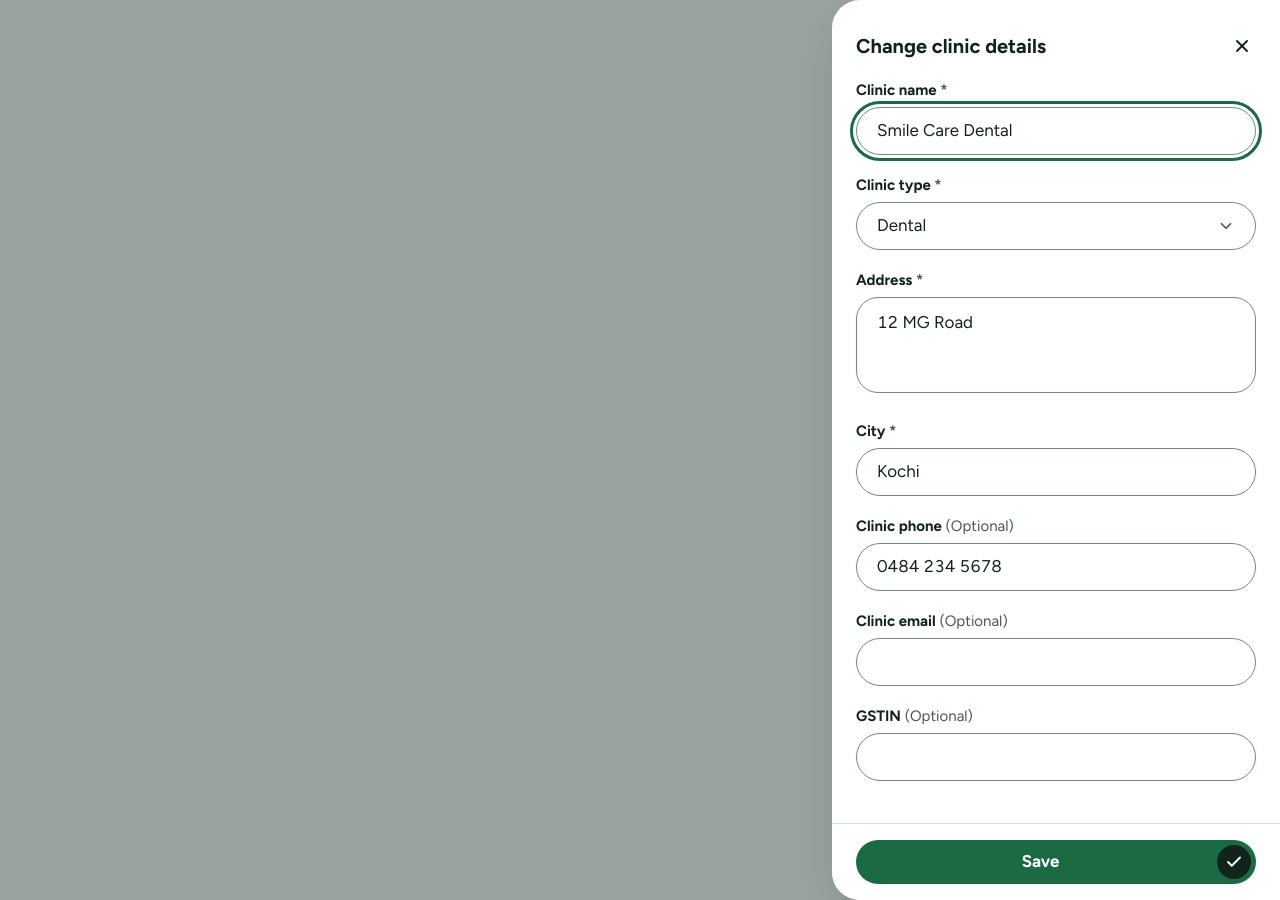
Test: ClinicDetailsSheet (plan §9, D78) › says beside a field what is wrong with it, and sends nothing
In the field labelled "GSTIN (Optional)": [1056, 756] box [856,732,1256,780], type "32"
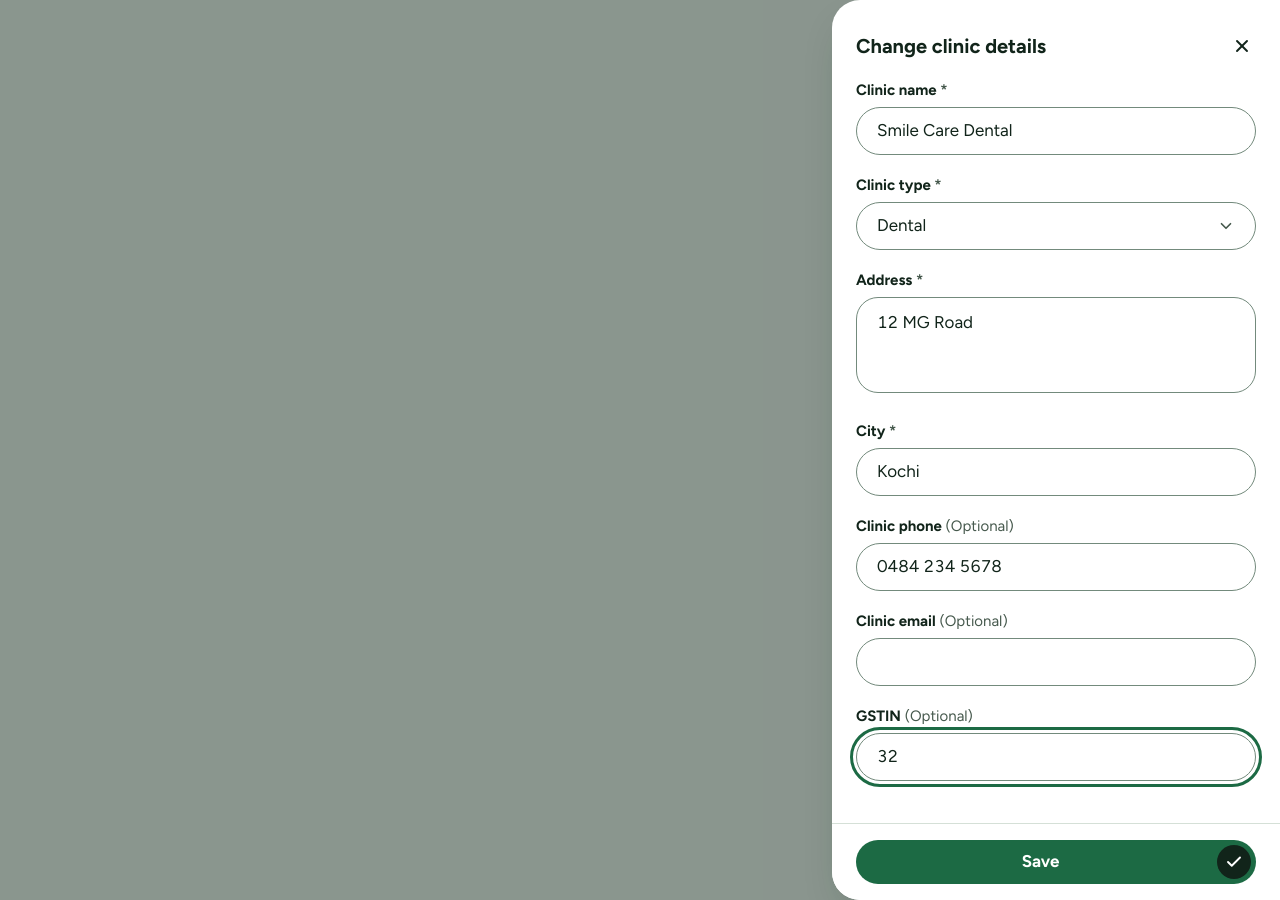
Click the button "Save": [1056, 862] box [856,840,1256,884]
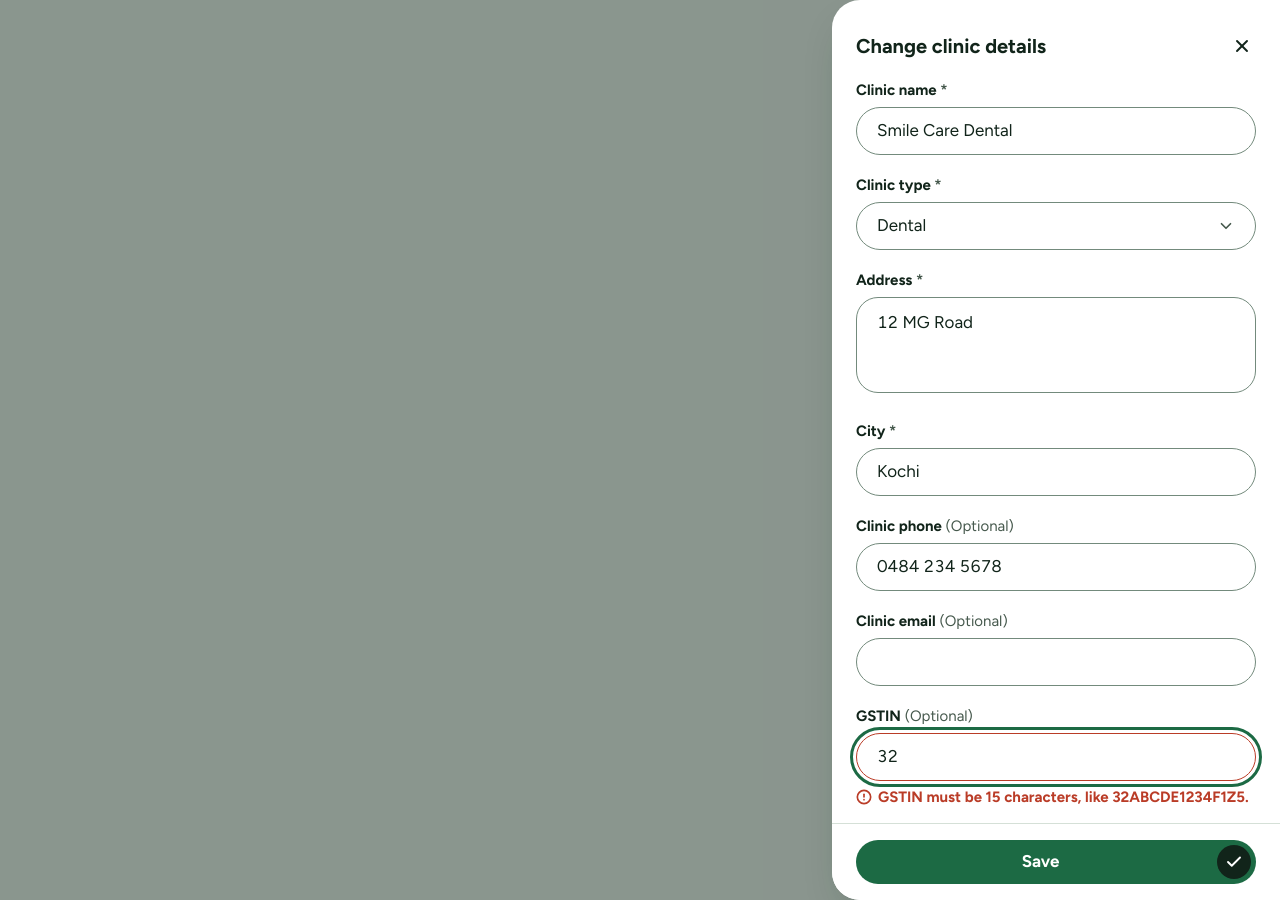
expect the text "GSTIN must be 15 characters, like 32ABCDE1234F1Z5." is shown: met, box [856,786,1256,808]
